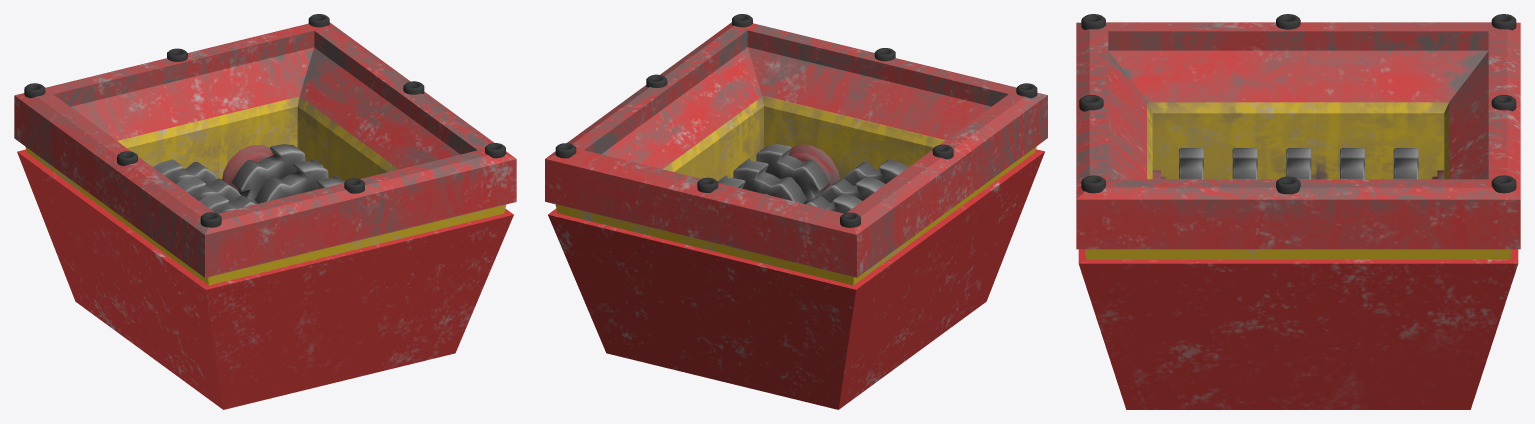
Rendered from lv2_shredding_machine.fbx.
3 views of the same model, side by side, from view 1: azimuth 30°, elevation 25°; view 2: azimuth 150°, elevation 25°; view 3: azimuth 270°, elevation 25° (orthographic). The views are drawn at different scales.
Visible parts, largest first — view 1: Cube.001, Cylinder.022, Cylinder.019, Cylinder.032; view 2: Cube.001, Cylinder.022, Cylinder.019, Cylinder.031; view 3: Cube.001, Cylinder.019.
Boxes of the visible parts, x1=… form: Cube.001: x1=14, y1=14, x2=516, y2=409; Cylinder.022: x1=231, y1=144, x2=344, y2=204; Cylinder.019: x1=153, y1=159, x2=255, y2=213; Cylinder.032: x1=222, y1=144, x2=273, y2=190; Cube.001: x1=545, y1=14, x2=1047, y2=409; Cylinder.022: x1=718, y1=144, x2=829, y2=204; Cylinder.019: x1=806, y1=159, x2=908, y2=213; Cylinder.031: x1=788, y1=144, x2=839, y2=190; Cube.001: x1=1076, y1=14, x2=1520, y2=409; Cylinder.019: x1=1179, y1=148, x2=1418, y2=179.
Bounding box in the file's own units: 249 × 264 × 161.
